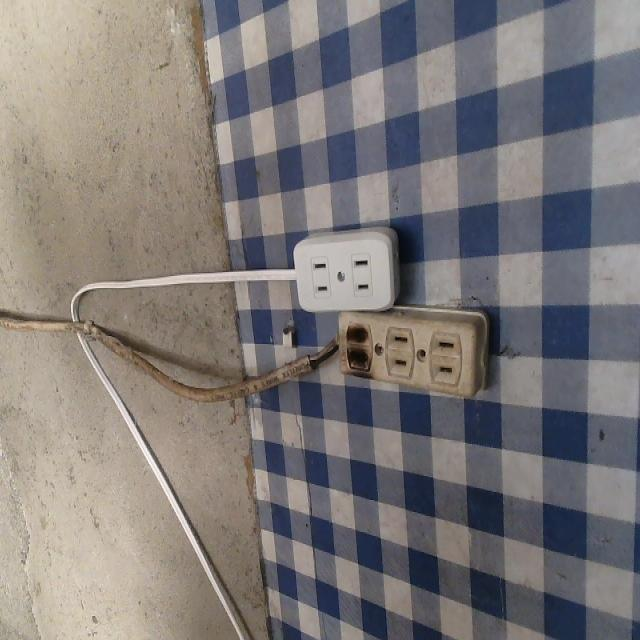-: (342, 315, 382, 381)
